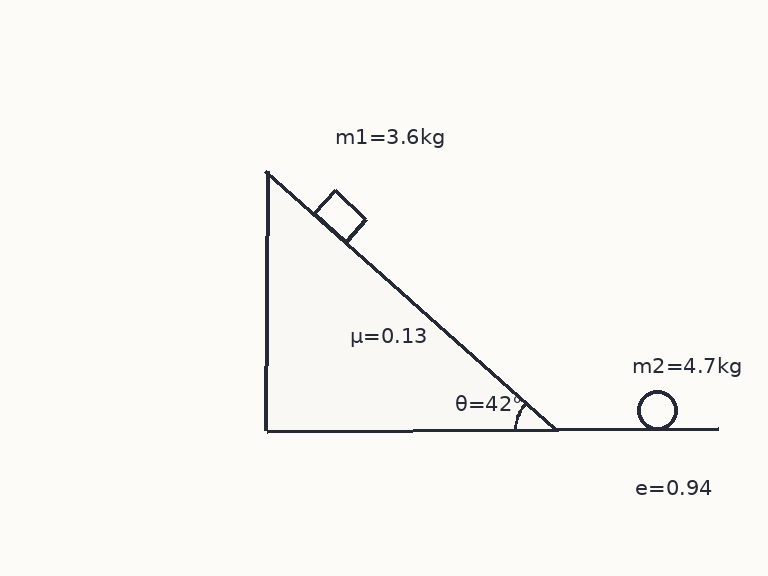ball: (635, 388, 679, 432)
block: (312, 188, 367, 243)
ramp: (265, 168, 557, 432)
